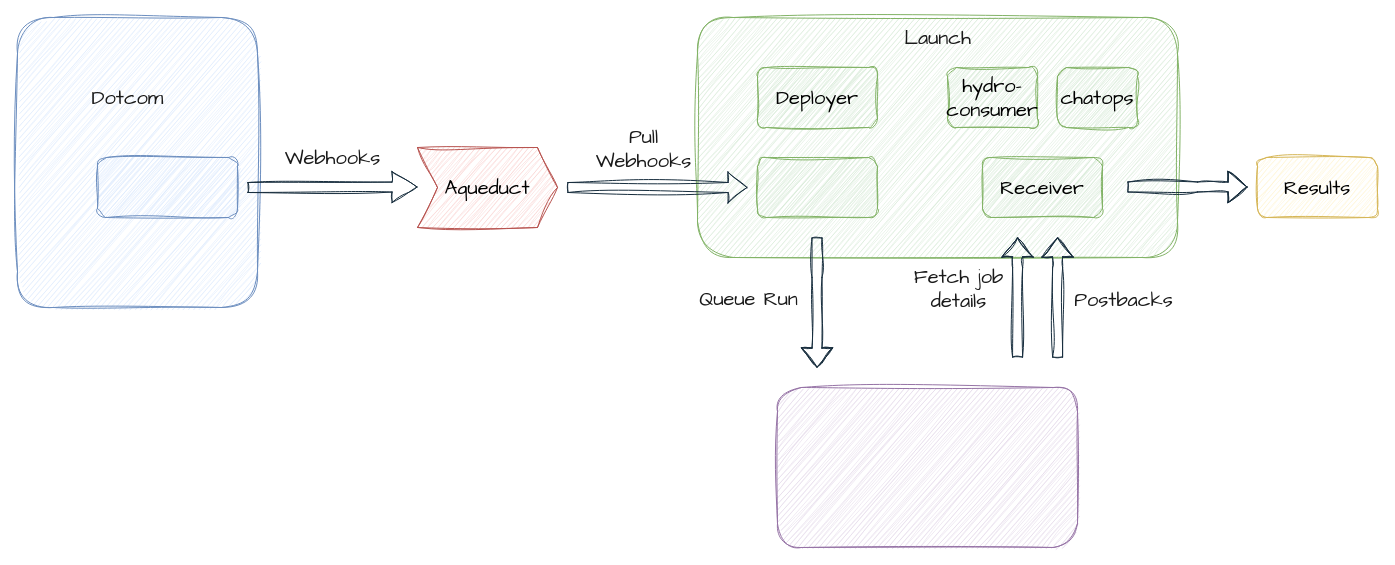
This 1395x565 diagram has some shape labels left out. The shapes that lost their labels are listed below. From the top down, each one's centre as x and y in pixels, then its label:
At pixel 167 187: "Hookworkers".
At pixel 817 187: "Worker".
At pixel 927 467: "Run Service/Actions Service".
